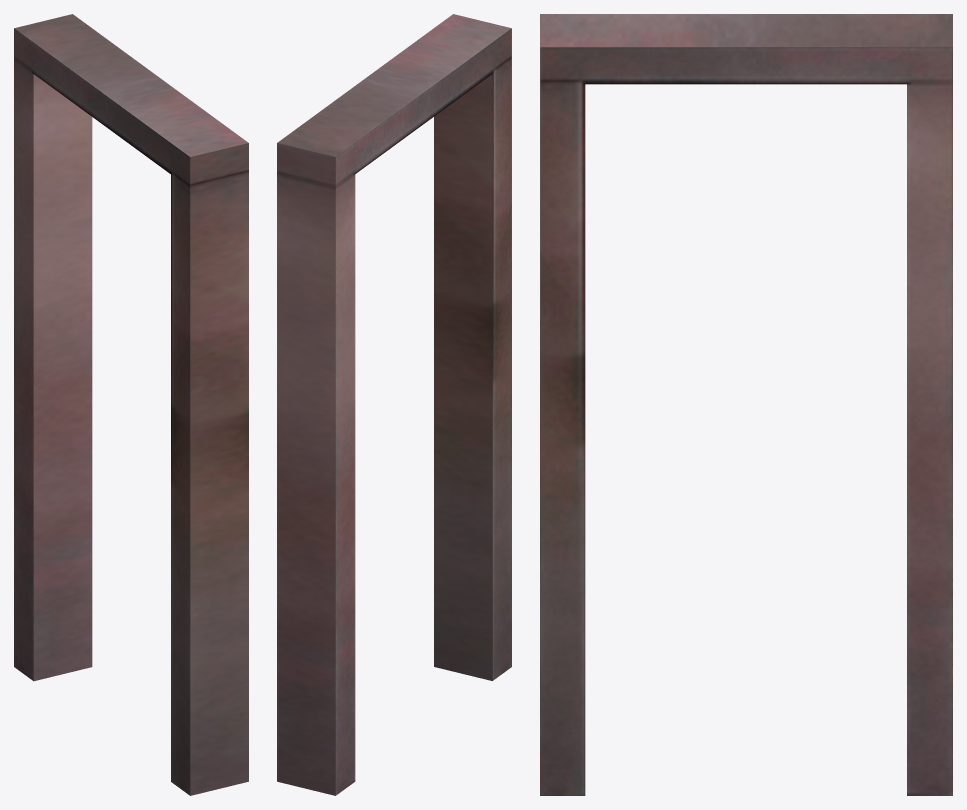
The model's file is Door_Frame.obj.
3 views of the same model, side by side, from view 1: azimuth 30°, elevation 25°; view 2: azimuth 150°, elevation 25°; view 3: azimuth 270°, elevation 25° (orthographic). The views are drawn at different scales.
Parts seen in each view (by area): view 1: Plane; view 2: Plane; view 3: Plane.
Boxes of the visible parts, x1=… form: Plane: x1=14, y1=14, x2=248, y2=795; Plane: x1=277, y1=14, x2=511, y2=795; Plane: x1=540, y1=14, x2=952, y2=795.
Size of the model in its own units: 0.3836 by 4 by 2.
